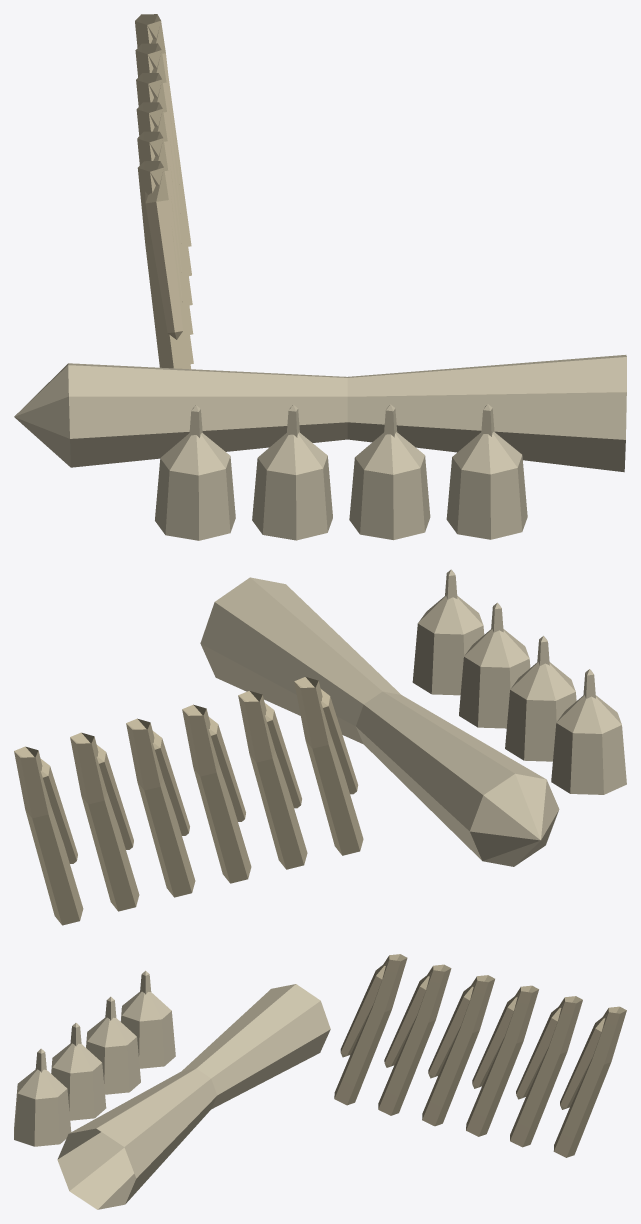
File: bones_1.glb
3 views of the same model, one above another, from view 1: azimuth 30°, elevation 25°; view 2: azimuth 150°, elevation 25°; view 3: azimuth 270°, elevation 25° (orthographic). The views are drawn at different scales.
Parts seen in each view (by area): view 1: bones_1; view 2: bones_1; view 3: bones_1.
Part boxes in pixels (box(x1,y1,x2,y2)): bones_1: box(14, 14, 626, 540); bones_1: box(14, 569, 626, 925); bones_1: box(14, 954, 626, 1209).
Size of the model in its own units: 0.405 by 0.1736 by 0.6077.
